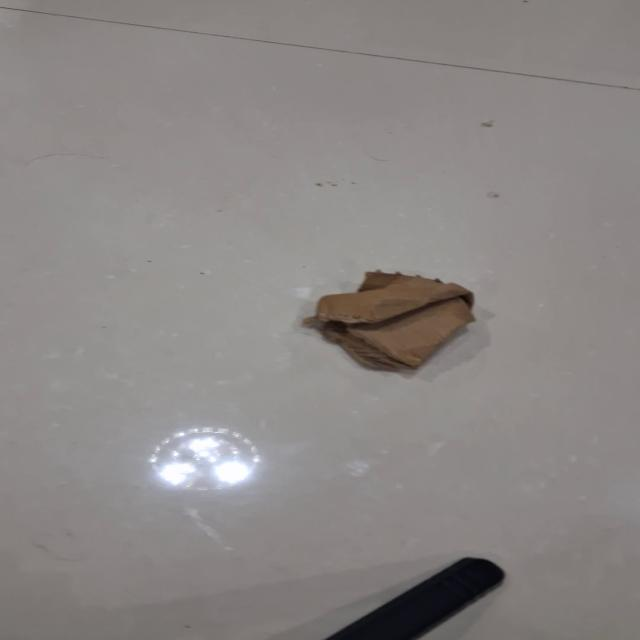paper: (302, 269, 476, 372)
